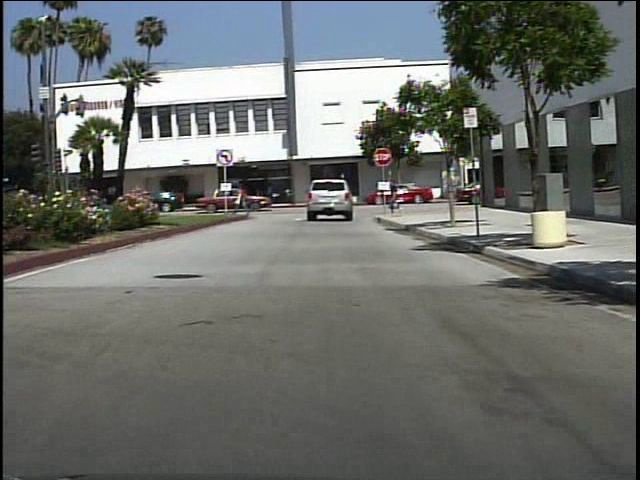person: (234, 179, 256, 221), (388, 175, 405, 215)
